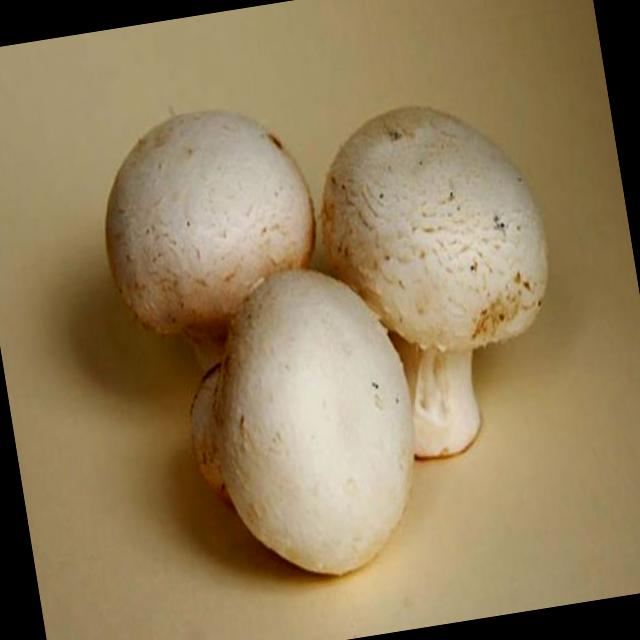Agaricus bisporus: (308, 83, 581, 483), (166, 252, 438, 607), (92, 96, 336, 376)
